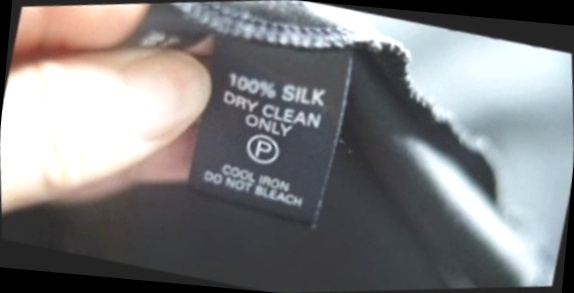dry_clean_any_solvent_except_trichloroethylene: (235, 120, 293, 177)
